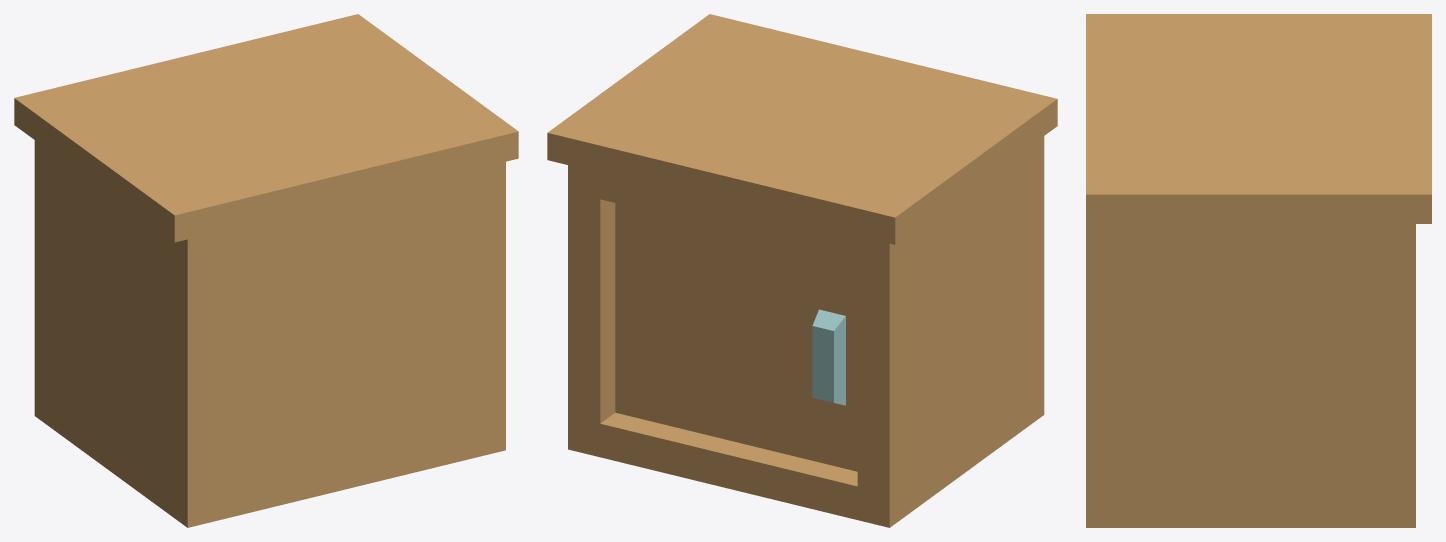
The model's file is cabinetBed.glb.
3 views of the same model, side by side, from view 1: azimuth 30°, elevation 25°; view 2: azimuth 150°, elevation 25°; view 3: azimuth 270°, elevation 25° (orthographic). The views are drawn at different scales.
Size of the model in its own units: 2.66 by 2.33 by 2.15.
